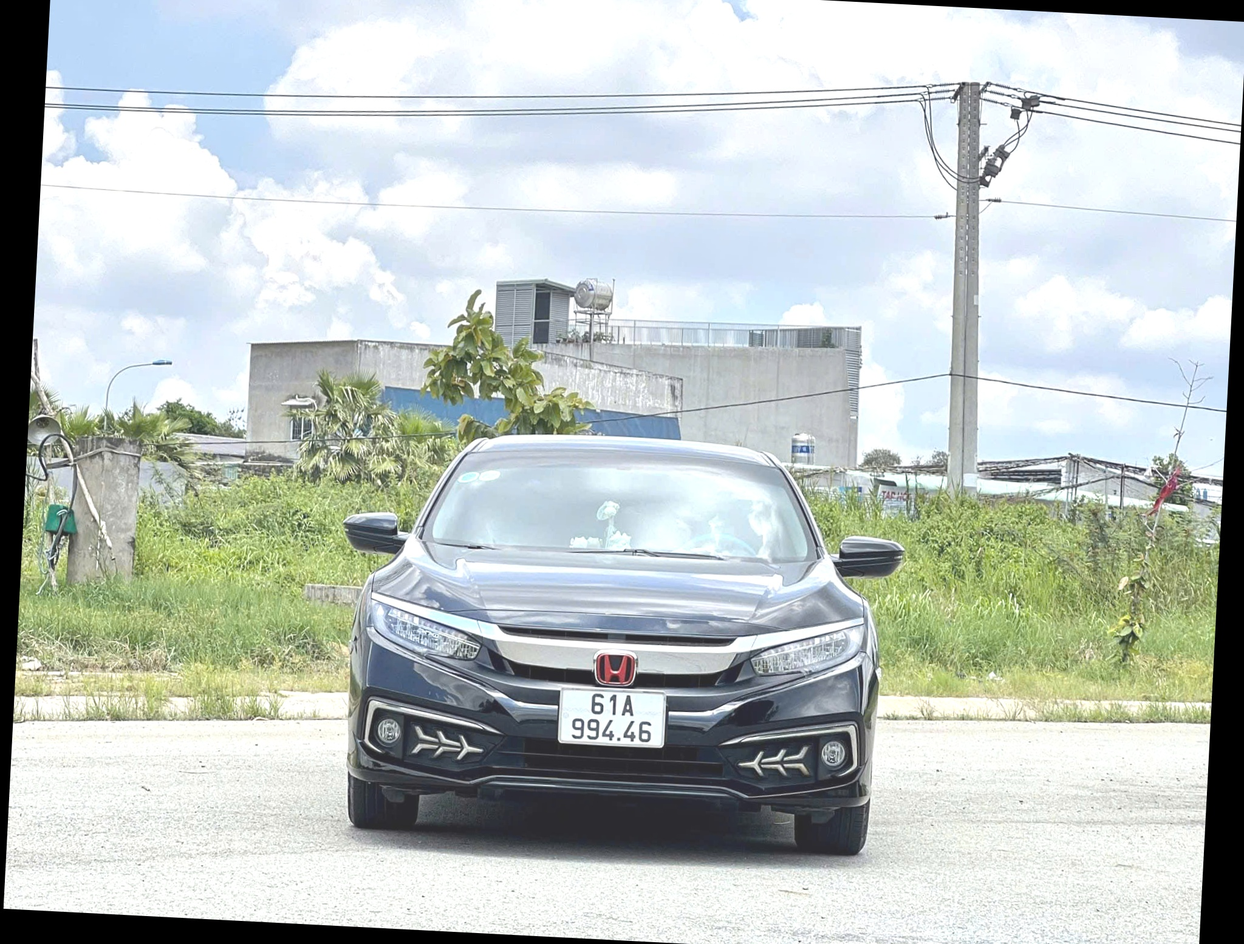Bien-so: (550, 715, 663, 783)
